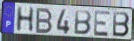4: (55, 8, 71, 35)
B: (73, 9, 93, 36), (35, 7, 54, 35), (112, 11, 131, 39)
E: (93, 10, 112, 38)
H: (15, 6, 36, 34)
